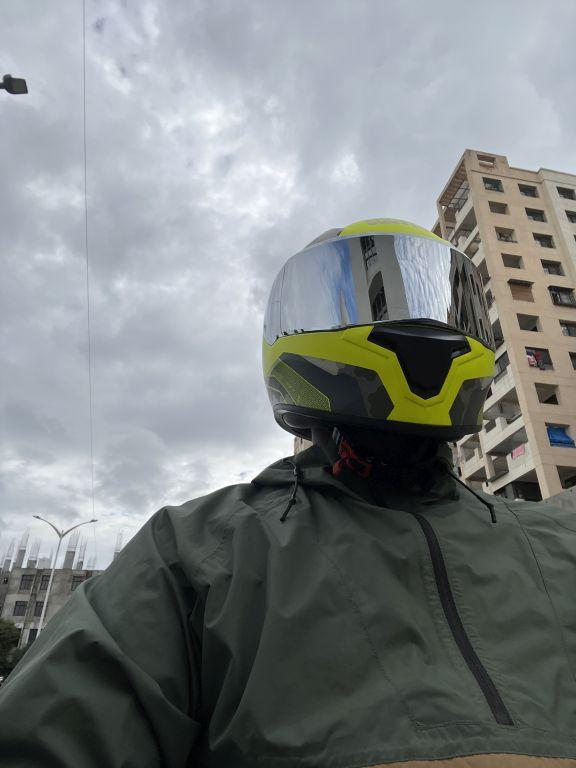helmet: (255, 212, 504, 465)
